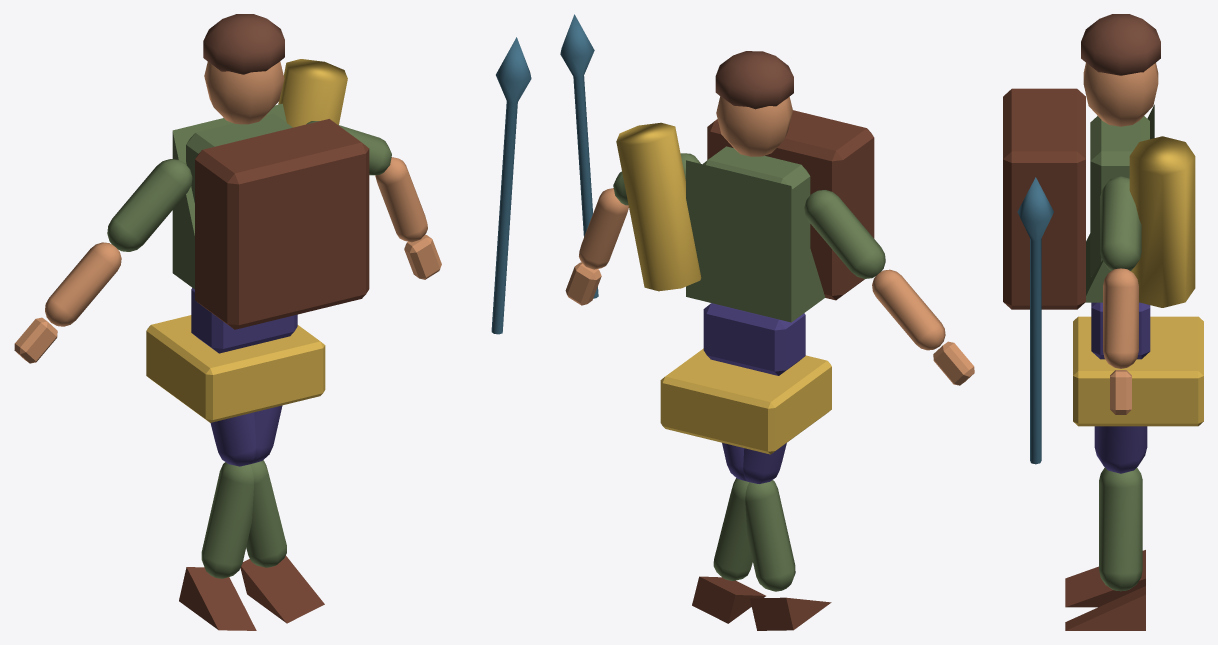
The model's file is adventurer.rustic.glb.
3 renders of one model, left to right at view 1: azimuth 30°, elevation 25°; view 2: azimuth 150°, elevation 25°; view 3: azimuth 270°, elevation 25°, orthographic. The views are drawn at different scales.
Parts seen in each view (by area): view 1: accessory.body, accessory.waist, shin.right, accessory.main-hand, upper-arm.left, hair, accessory.back, head, forearm.left, foot.left, foot.right, tunic (+9 smaller); view 2: tunic, accessory.waist, accessory.back, accessory.body, pelvis, shin.right, upper-arm.left, hair, head, accessory.main-hand, forearm.left, torso (+8 smaller); view 3: accessory.body, accessory.waist, accessory.back, shin.left, accessory.main-hand, hair, torso, head, forearm.right, upper-arm.right, thigh.right, foot.left (+4 smaller).
Part boxes in pixels (x1,y1,x2,y2): accessory.body: (195,119,369,329); accessory.waist: (146,315,325,422); shin.right: (201,462,253,578); accessory.main-hand: (491,37,531,334); upper-arm.left: (107,159,192,251); hair: (203,14,284,74); accessory.back: (278,59,347,127); head: (204,61,284,124); forearm.left: (45,242,121,326); foot.left: (240,555,324,623); foot.right: (179,567,256,630); tunic: (172,103,286,289); tunic: (686,160,825,322); accessory.waist: (660,348,831,454); accessory.back: (616,122,701,291); accessory.body: (707,110,874,300); pelvis: (703,303,805,375); shin.right: (745,480,795,591); upper-arm.left: (804,190,885,278); hair: (715,51,793,109); head: (716,96,792,156); accessory.main-hand: (560,14,598,298); forearm.left: (872,269,945,350); torso: (703,146,810,247); accessory.body: (1003,88,1085,309); accessory.waist: (1073,316,1203,426); accessory.back: (1129,136,1195,307); shin.left: (1099,469,1142,591); accessory.main-hand: (1017,177,1053,464); hair: (1081,14,1160,75); torso: (1090,116,1149,276); head: (1083,63,1158,126); forearm.right: (1103,268,1138,368); upper-arm.right: (1100,176,1141,270); thigh.right: (1094,426,1147,473); foot.left: (1065,586,1145,630).
Size of the model in its own units: 2.52 by 3.01 by 0.92.
